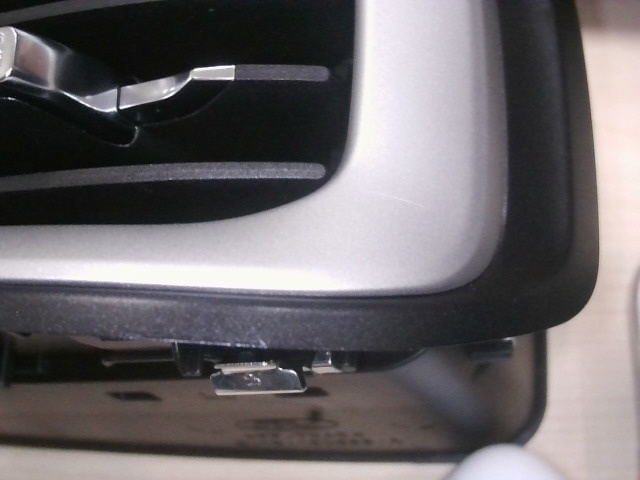NG: (369, 180, 433, 218), (246, 322, 281, 352)
